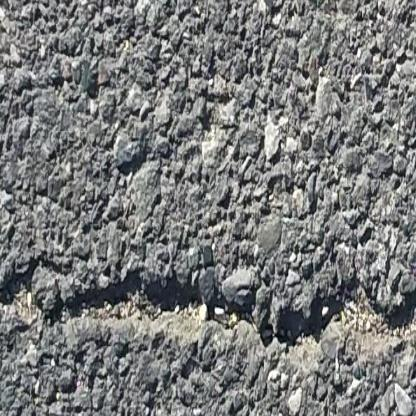Cracks: (0, 257, 416, 373)
